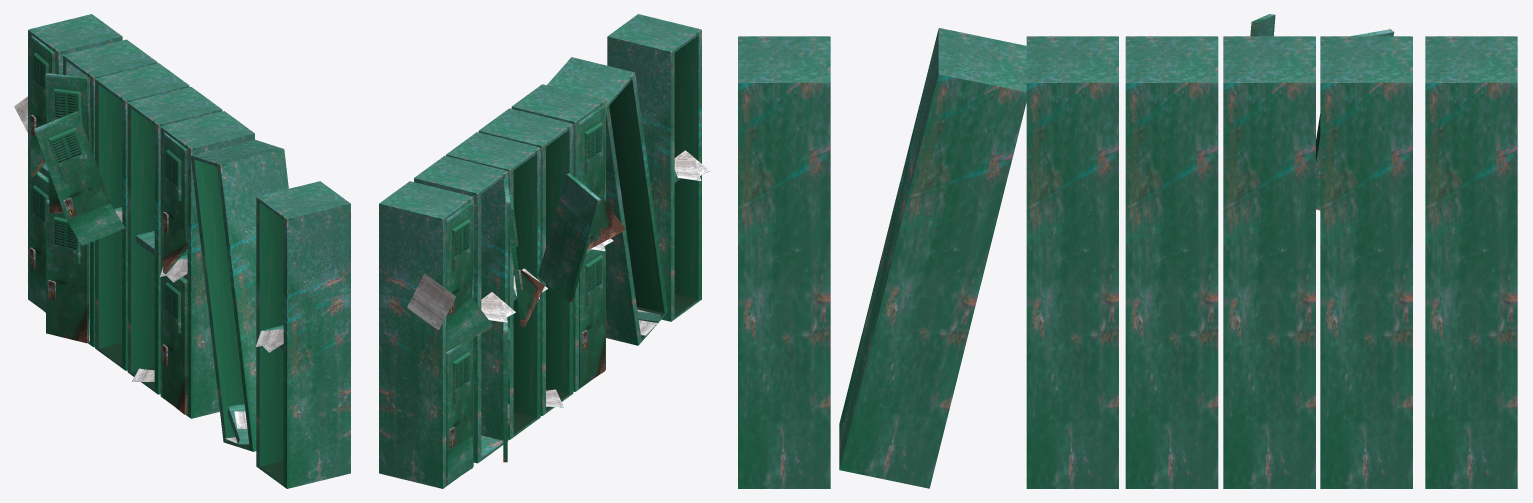
The model's file is Lockers05.fbx.
The picture shows the model from 3 angles, left to right: view 1: azimuth 30°, elevation 25°; view 2: azimuth 150°, elevation 25°; view 3: azimuth 270°, elevation 25°; orthographic projection. The views are drawn at different scales.
Parts seen in each view (by area): view 1: Empty_Mesh; view 2: Empty_Mesh; view 3: Empty_Mesh.
Part boxes in pixels (bbox=[...]): Empty_Mesh: bbox=[14, 14, 350, 488]; Empty_Mesh: bbox=[379, 14, 709, 488]; Empty_Mesh: bbox=[738, 14, 1518, 488].
Size of the model in its own units: 105 by 198 by 337.
